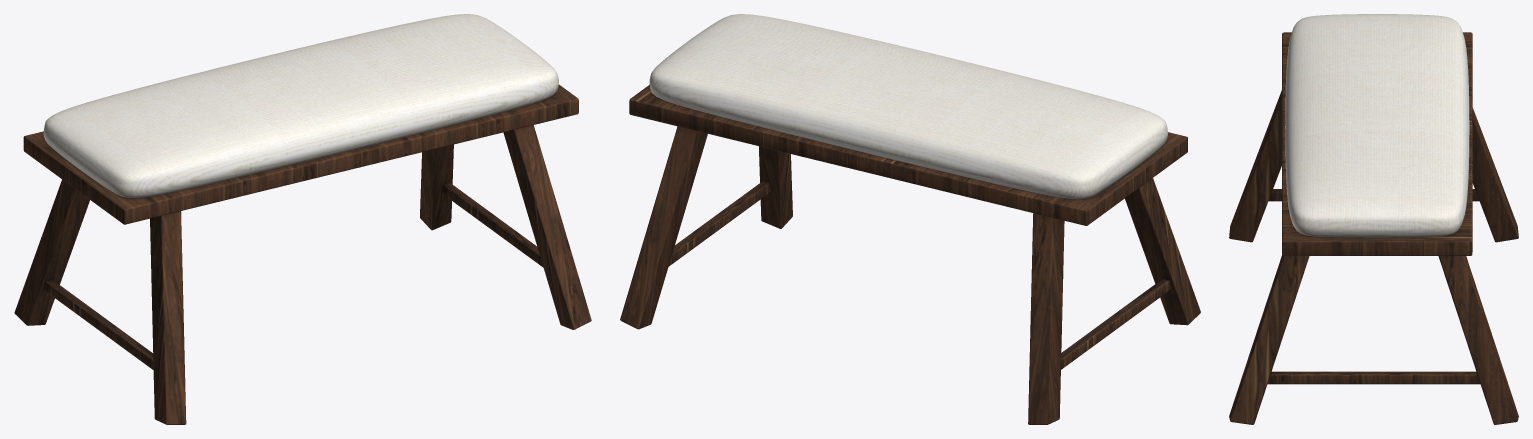
Rendered from raw_model.obj.
The picture shows the model from 3 angles, left to right: view 1: azimuth 30°, elevation 25°; view 2: azimuth 150°, elevation 25°; view 3: azimuth 270°, elevation 25°; orthographic projection. The views are drawn at different scales.
Parts seen in each view (by area): view 1: solid_002, solid_001; view 2: solid_002, solid_001; view 3: solid_002, solid_001.
Part boxes in pixels (bbox=[...]): solid_002: bbox=[43, 14, 558, 198]; solid_001: bbox=[14, 84, 591, 424]; solid_002: bbox=[649, 14, 1167, 199]; solid_001: bbox=[620, 85, 1200, 424]; solid_002: bbox=[1285, 14, 1469, 237]; solid_001: bbox=[1229, 32, 1518, 424].
Bounding box in the file's own units: 0.9 × 0.4634 × 0.5266.
Materials: 1 (1 with a texture image).
